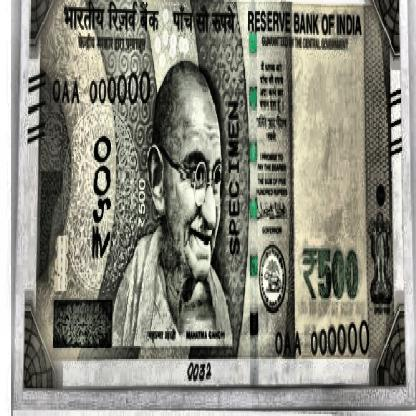Rs500: (298, 237, 366, 314)
